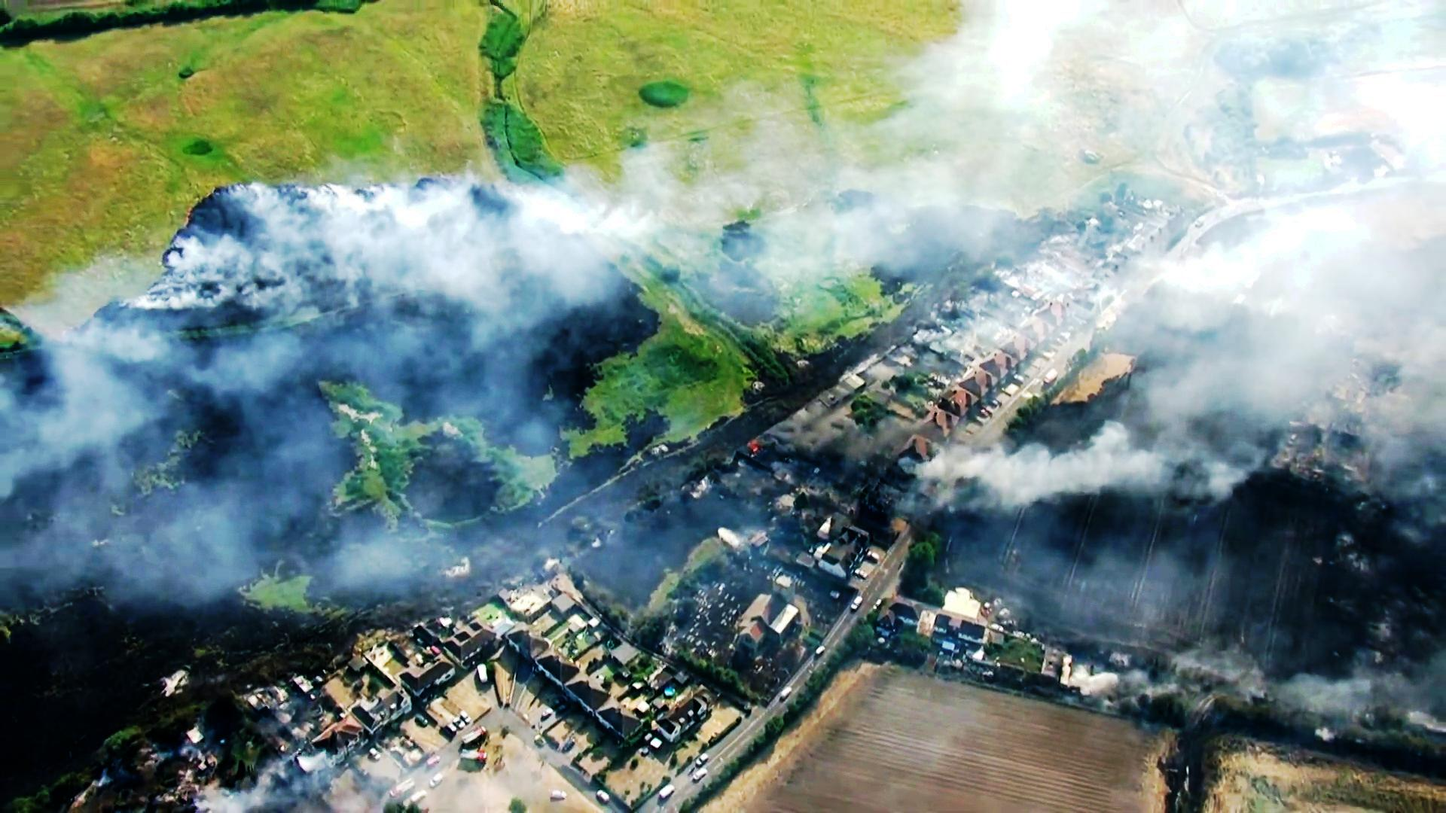smoke: (938, 446, 1082, 524)
